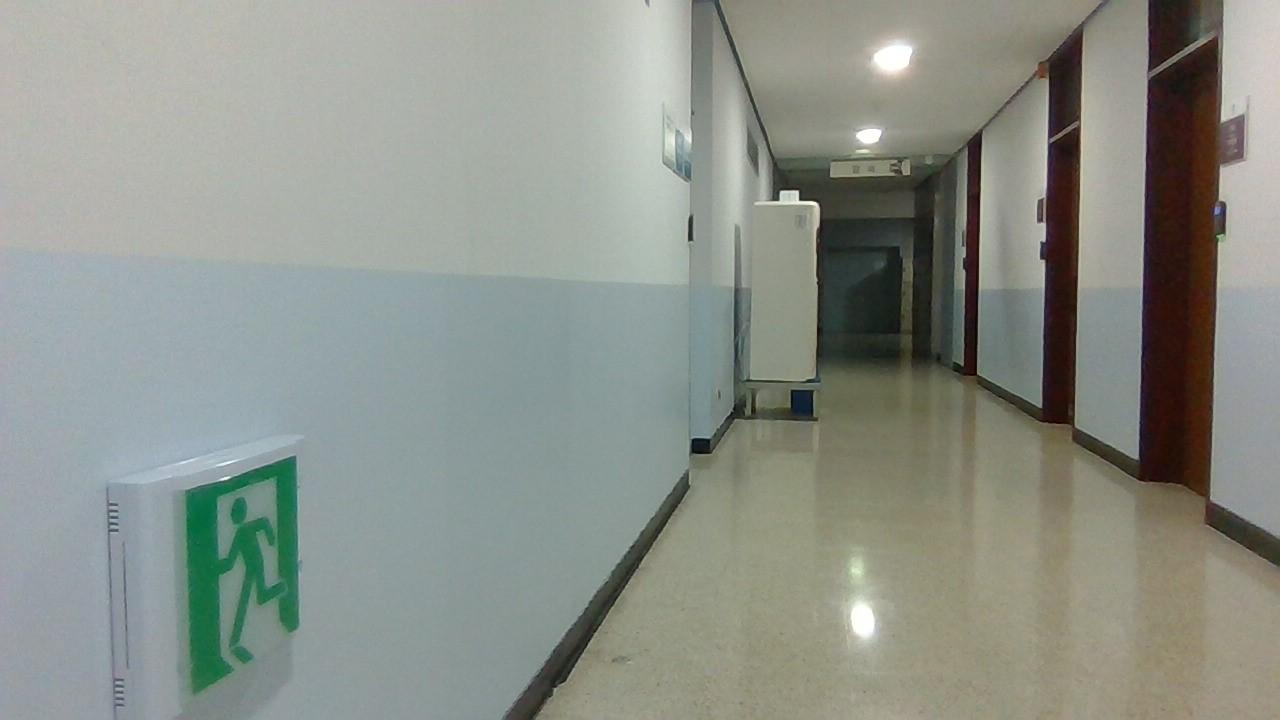emergency_exit: (105, 433, 304, 717), (182, 453, 301, 696), (828, 157, 911, 179)
